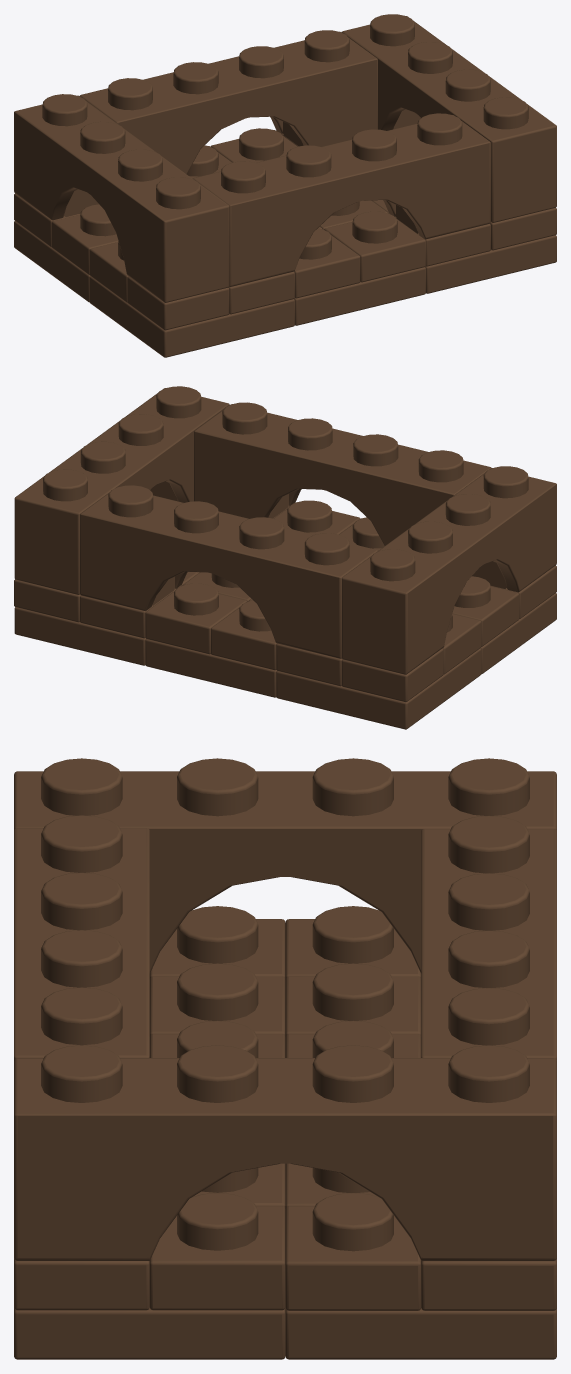
3 views of the same model, one above another, from view 1: azimuth 30°, elevation 25°; view 2: azimuth 150°, elevation 25°; view 3: azimuth 270°, elevation 25° (orthographic). The views are drawn at different scales.
Parts seen in each view (by area): view 1: 00027_3659.dat, 00001_3659.dat, 00002_3659.dat, 00028_3659.dat, 00032_2420.dat, 00005_3024.dat, 00035_2420.dat, 00036_3023.dat, 00006_3024.dat, 00004_3024.dat, 00016_3024.dat, 00033_2420.dat (+8 smaller); view 2: 00002_3659.dat, 00001_3659.dat, 00027_3659.dat, 00028_3659.dat, 00033_2420.dat, 00021_3024.dat, 00034_2420.dat, 00037_3023.dat, 00022_3024.dat, 00012_3024.dat, 00010_3024.dat, 00032_2420.dat (+8 smaller); view 3: 00028_3659.dat, 00001_3659.dat, 00027_3659.dat, 00002_3659.dat, 00024_3024.dat, 00035_2420.dat, 00034_2420.dat, 00025_3024.dat, 00015_3024.dat, 00009_3024.dat, 00016_3024.dat, 00010_3024.dat (+7 smaller).
Boxes of the visible parts, x1,y1,x2,y2 form: 00027_3659.dat: [193, 113, 490, 286]; 00001_3659.dat: [14, 94, 229, 302]; 00002_3659.dat: [80, 30, 377, 174]; 00028_3659.dat: [341, 14, 556, 222]; 00032_2420.dat: [89, 276, 294, 357]; 00005_3024.dat: [324, 211, 425, 282]; 00035_2420.dat: [425, 235, 556, 293]; 00036_3023.dat: [294, 267, 425, 325]; 00006_3024.dat: [294, 228, 360, 298]; 00004_3024.dat: [127, 276, 229, 330]; 00016_3024.dat: [51, 204, 118, 274]; 00033_2420.dat: [14, 221, 90, 302]; 00002_3659.dat: [80, 485, 377, 658]; 00001_3659.dat: [341, 466, 556, 674]; 00027_3659.dat: [194, 402, 491, 545]; 00028_3659.dat: [14, 386, 229, 594]; 00033_2420.dat: [276, 648, 481, 729]; 00021_3024.dat: [145, 583, 246, 654]; 00034_2420.dat: [14, 607, 145, 665]; 00037_3023.dat: [145, 639, 276, 697]; 00022_3024.dat: [211, 600, 276, 670]; 00012_3024.dat: [341, 648, 443, 702]; 00010_3024.dat: [452, 576, 519, 646]; 00032_2420.dat: [480, 593, 556, 674]; 00028_3659.dat: [14, 1045, 556, 1260]; 00001_3659.dat: [14, 758, 556, 973]; 00027_3659.dat: [14, 815, 149, 1060]; 00002_3659.dat: [421, 815, 556, 1060]; 00024_3024.dat: [149, 1193, 285, 1310]; 00035_2420.dat: [14, 1307, 285, 1359]; 00034_2420.dat: [285, 1308, 556, 1359]; 00025_3024.dat: [285, 1194, 421, 1310]; 00015_3024.dat: [285, 963, 421, 1036]; 00009_3024.dat: [149, 963, 285, 1036]; 00016_3024.dat: [285, 906, 421, 979]; 00010_3024.dat: [149, 906, 285, 979].
Size of the model in its own units: 120 by 44 by 80.
